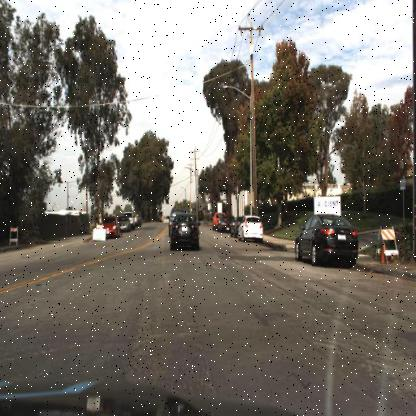car: (290, 208, 362, 276), (163, 210, 202, 256), (169, 210, 201, 252), (237, 210, 268, 246), (97, 212, 122, 244), (117, 213, 132, 236)
